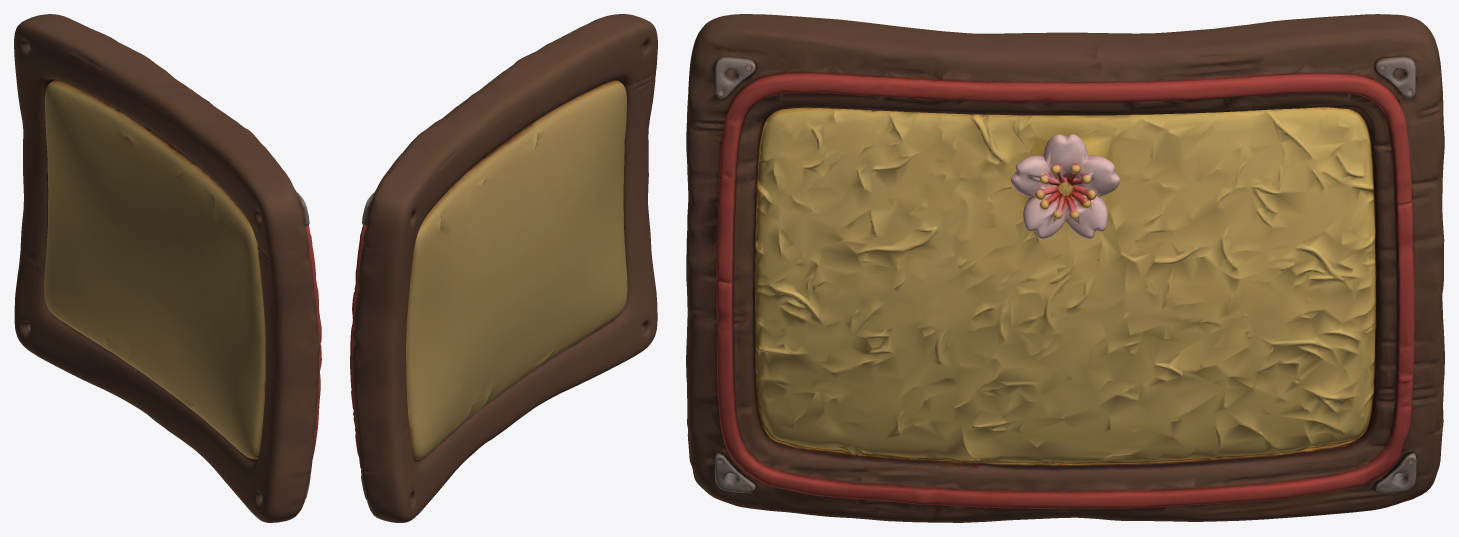
Rendered from JP_사물_s2_sign_upgrade_room_old.glb.
The picture shows the model from 3 angles, left to right: view 1: azimuth 30°, elevation 25°; view 2: azimuth 150°, elevation 25°; view 3: azimuth 270°, elevation 25°; orthographic projection. The views are drawn at different scales.
Visible parts, largest first — view 1: tripo_node_594c177b-e8a0-414f-a891-edcf94cfe409; view 2: tripo_node_594c177b-e8a0-414f-a891-edcf94cfe409; view 3: tripo_node_594c177b-e8a0-414f-a891-edcf94cfe409.
Part boxes in pixels (bbox=[...]): tripo_node_594c177b-e8a0-414f-a891-edcf94cfe409: bbox=[14, 14, 321, 522]; tripo_node_594c177b-e8a0-414f-a891-edcf94cfe409: bbox=[350, 14, 657, 522]; tripo_node_594c177b-e8a0-414f-a891-edcf94cfe409: bbox=[686, 14, 1444, 522].
Bounding box in the file's own units: 0.2074 × 0.697 × 0.9999.
Materials: 1 (1 with a texture image).
